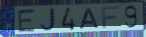4: (61, 7, 77, 32)
9: (124, 4, 139, 29)
A: (79, 7, 101, 30)
E: (17, 8, 37, 33)
F: (100, 5, 120, 29)
J: (40, 7, 57, 32)
